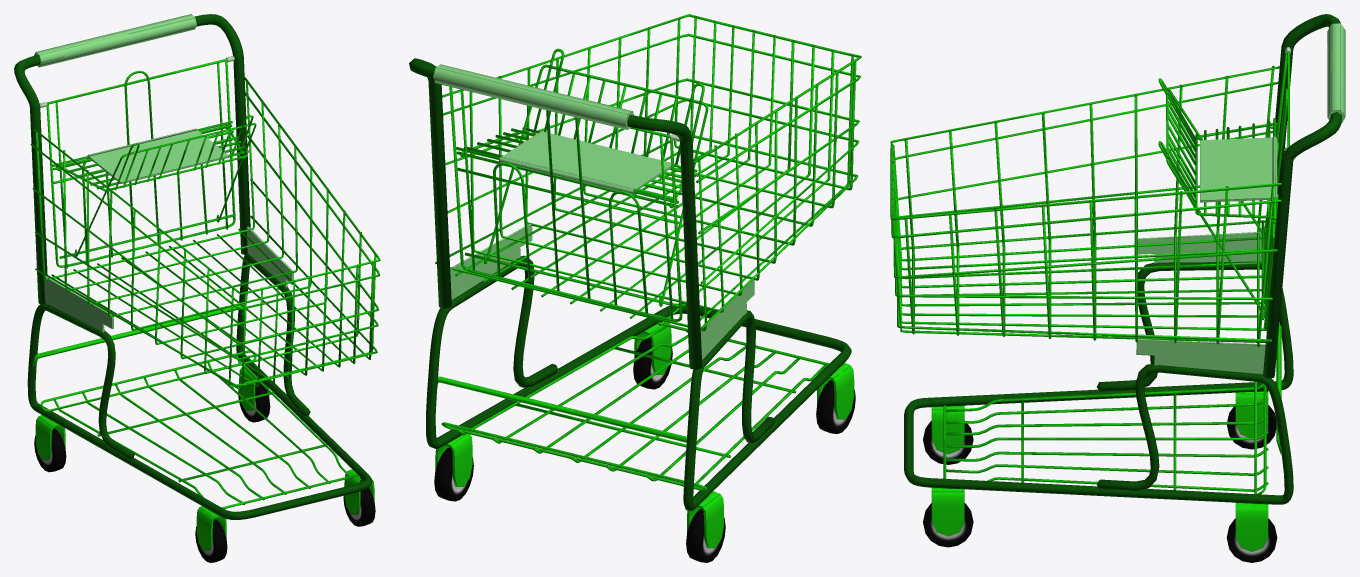
File: Shopping_Cart.fbx
The picture shows the model from 3 angles, left to right: view 1: azimuth 30°, elevation 25°; view 2: azimuth 150°, elevation 25°; view 3: azimuth 270°, elevation 25°; orthographic projection. The views are drawn at different scales.
Visible parts, largest first — view 1: Shopping_Cart; view 2: Shopping_Cart; view 3: Shopping_Cart.
Part boxes in pixels (bbox=[...]): Shopping_Cart: bbox=[14, 14, 380, 562]; Shopping_Cart: bbox=[409, 14, 861, 562]; Shopping_Cart: bbox=[890, 14, 1345, 562].
Size of the model in its own units: 315 by 526 by 497.
